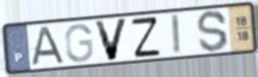A: (28, 25, 67, 68)
G: (64, 22, 95, 64)
I: (168, 12, 183, 57)
S: (195, 9, 230, 54)
V: (92, 17, 131, 63)
Z: (129, 15, 162, 60)
